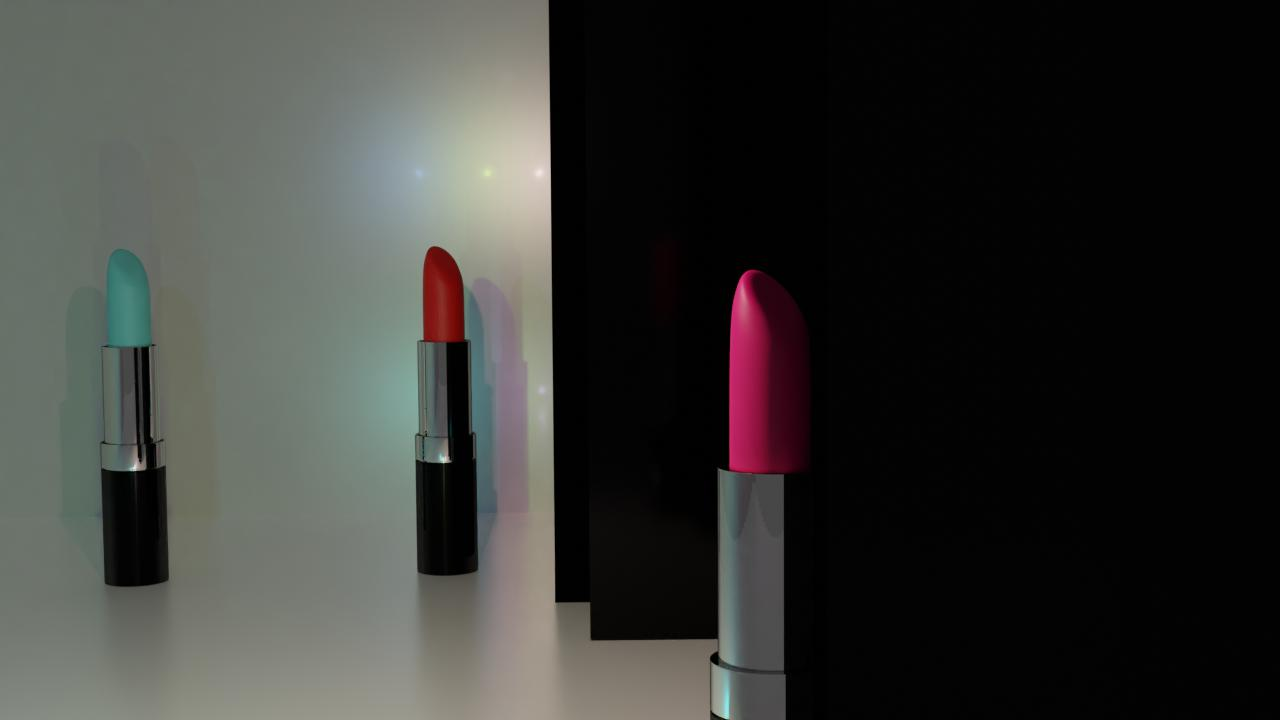CLASSIFIER_NAME: (708, 261, 839, 720), (99, 245, 171, 587), (414, 242, 479, 576)
